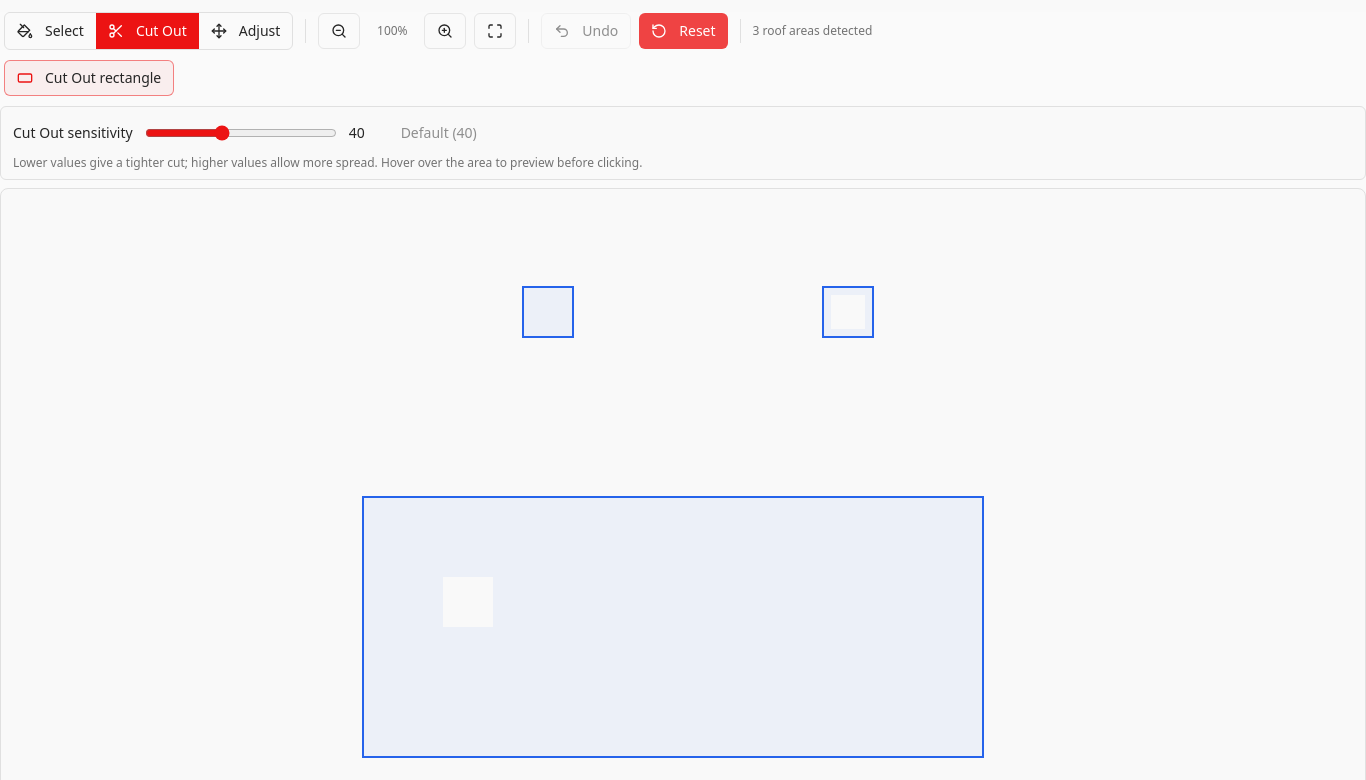
Scenario: cancels on Escape, tool change and lost capture; clicks and empty rectangles do not edit or add undo entries
The image size is (1366, 780).
Earlier steps of the test are not shown.
Later steps or results of the test are not shown.
Click the button "Cut Out rectangle" at (89, 78), box [4,60,174,96]
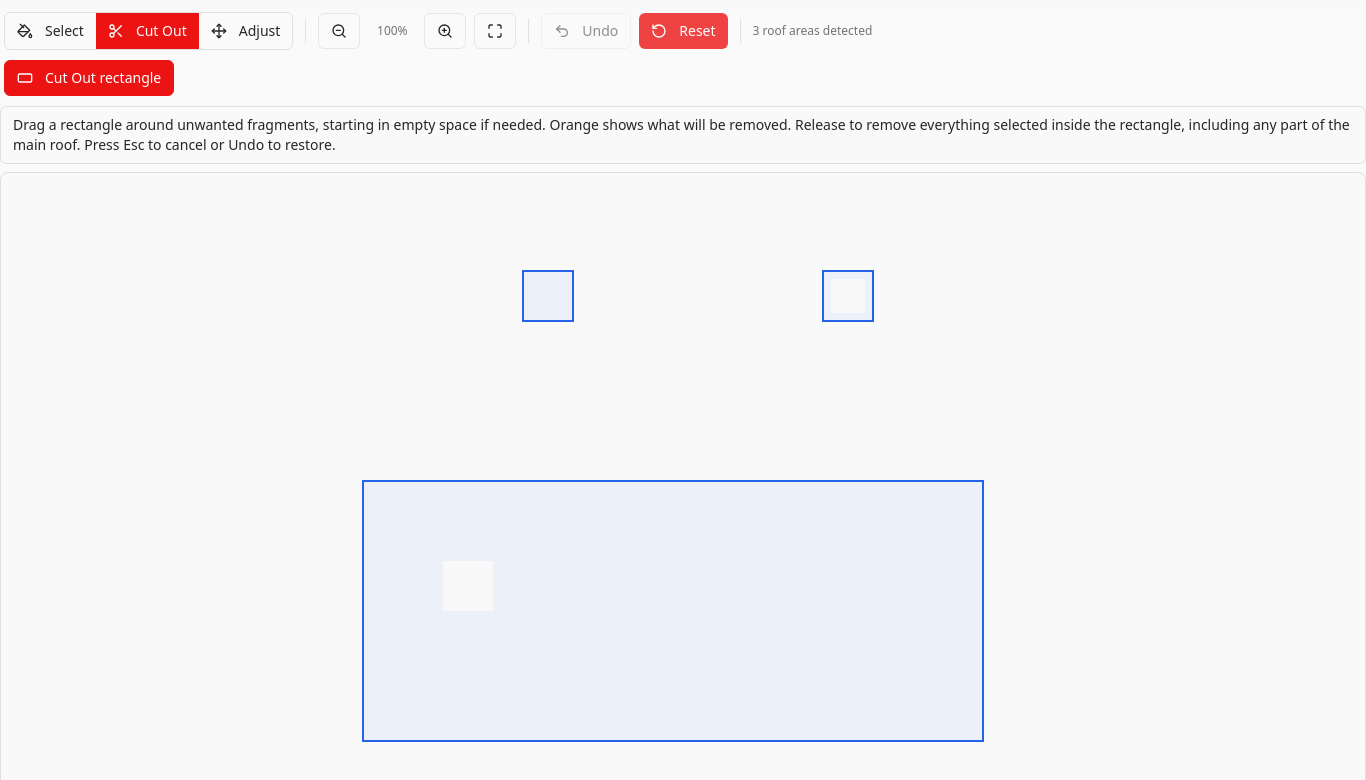
Check: the button "Cut Out" is pressed, box [96,13,199,49]
Check: the button "Cut Out rectangle" is pressed, box [4,60,174,96]
Press the mouse on the drawing with test id "paint-interaction-canvas" at (683, 481), box [283,181,1083,779]
Press Escape
Press the mouse on the drawing with test id "paint-interaction-canvas" at (683, 481), box [283,181,1083,779]
Click the button "Select" at (50, 31), box [5,13,96,49]
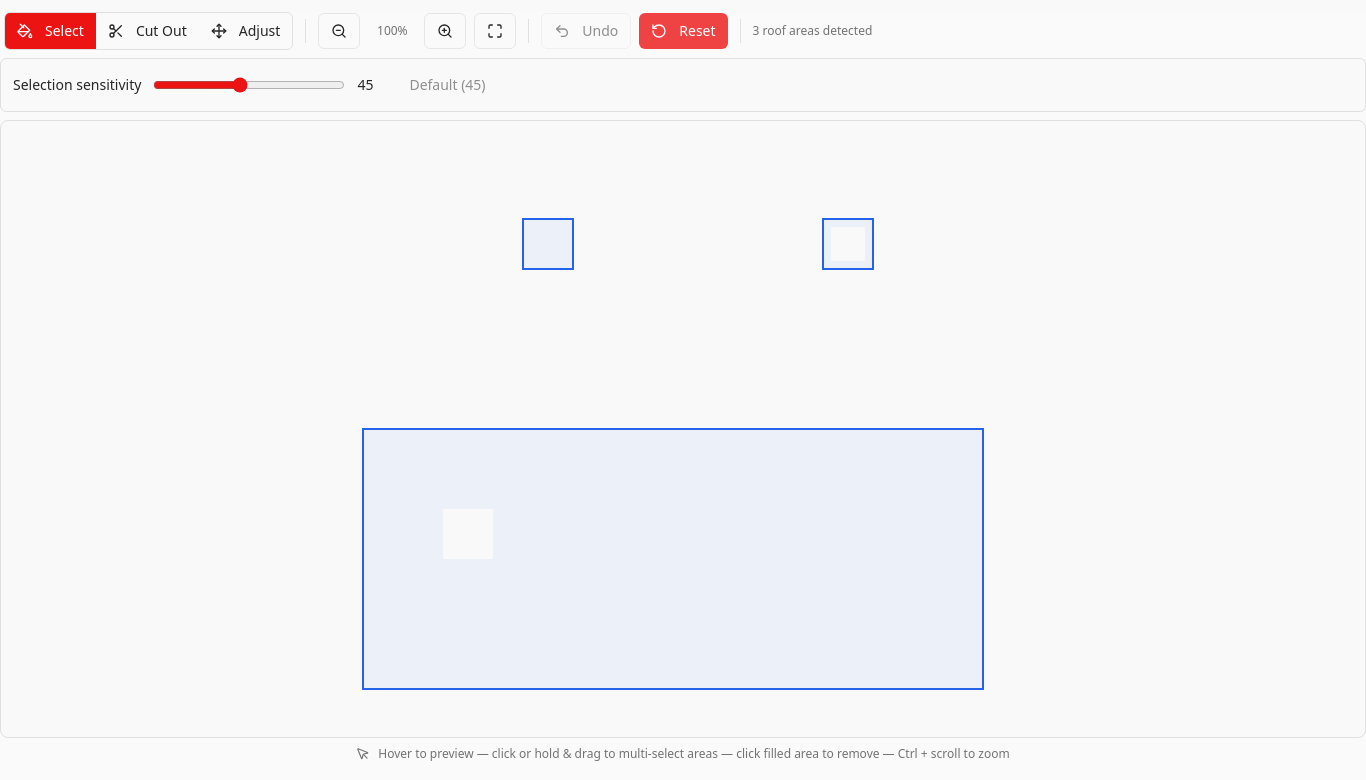
Click the button "Cut Out" at (147, 31), box [96,13,199,49]
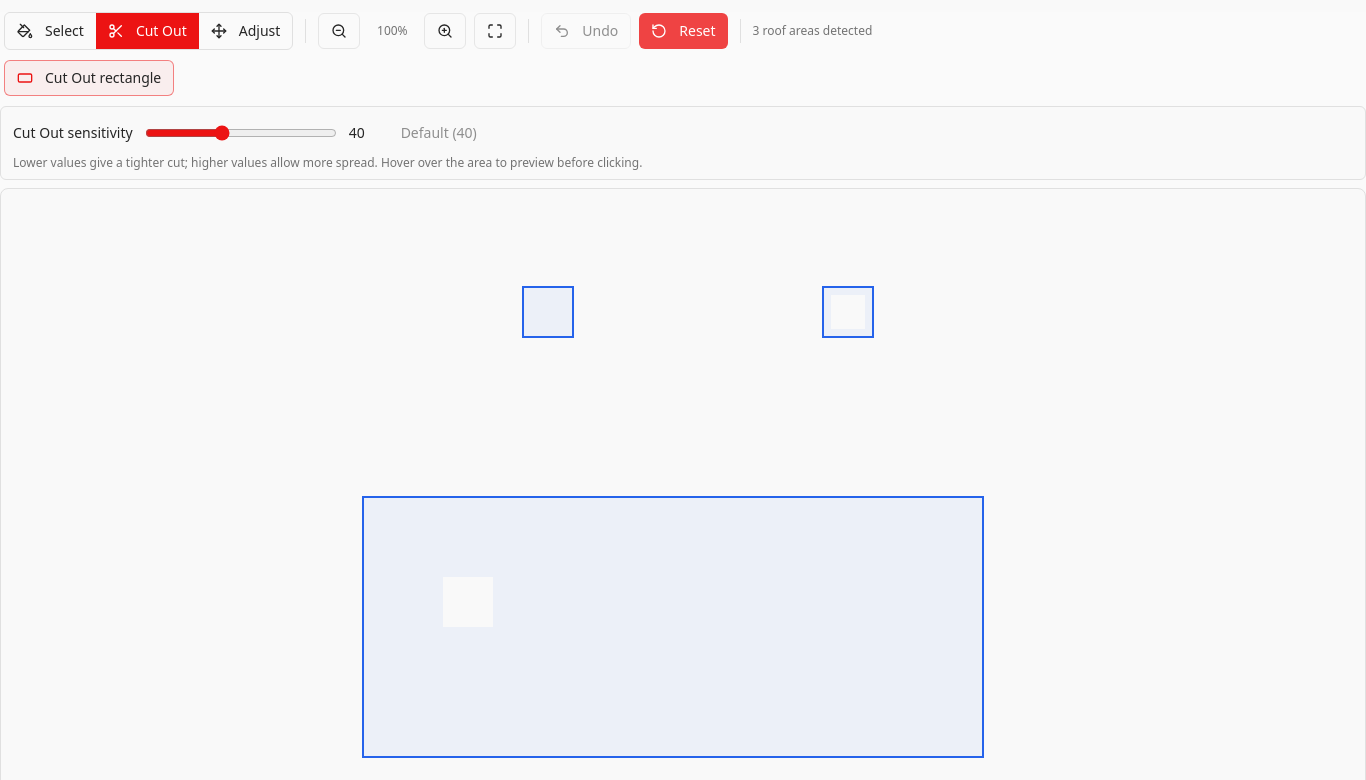
Click the button "Cut Out rectangle" at (89, 78), box [4,60,174,96]
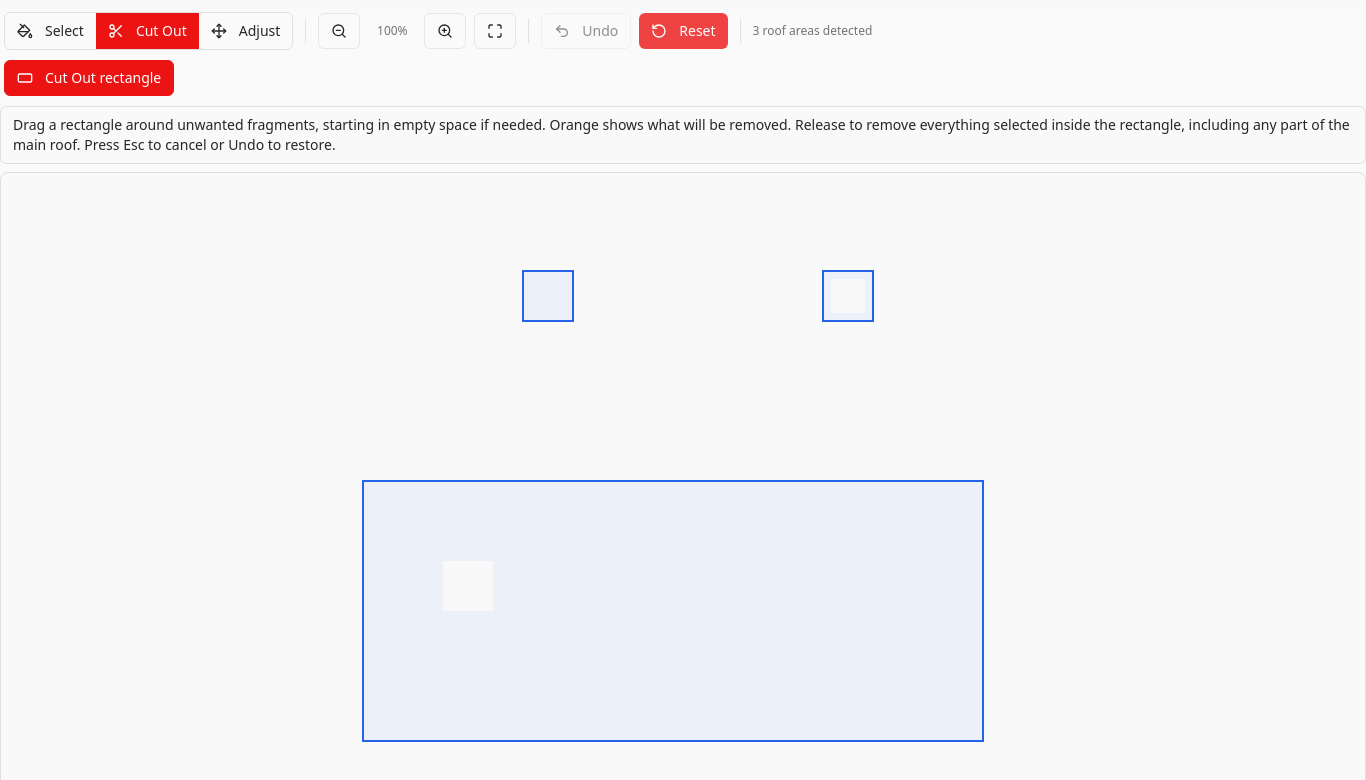
Click the button "Cut Out rectangle" at (89, 78), box [4,60,174,96]
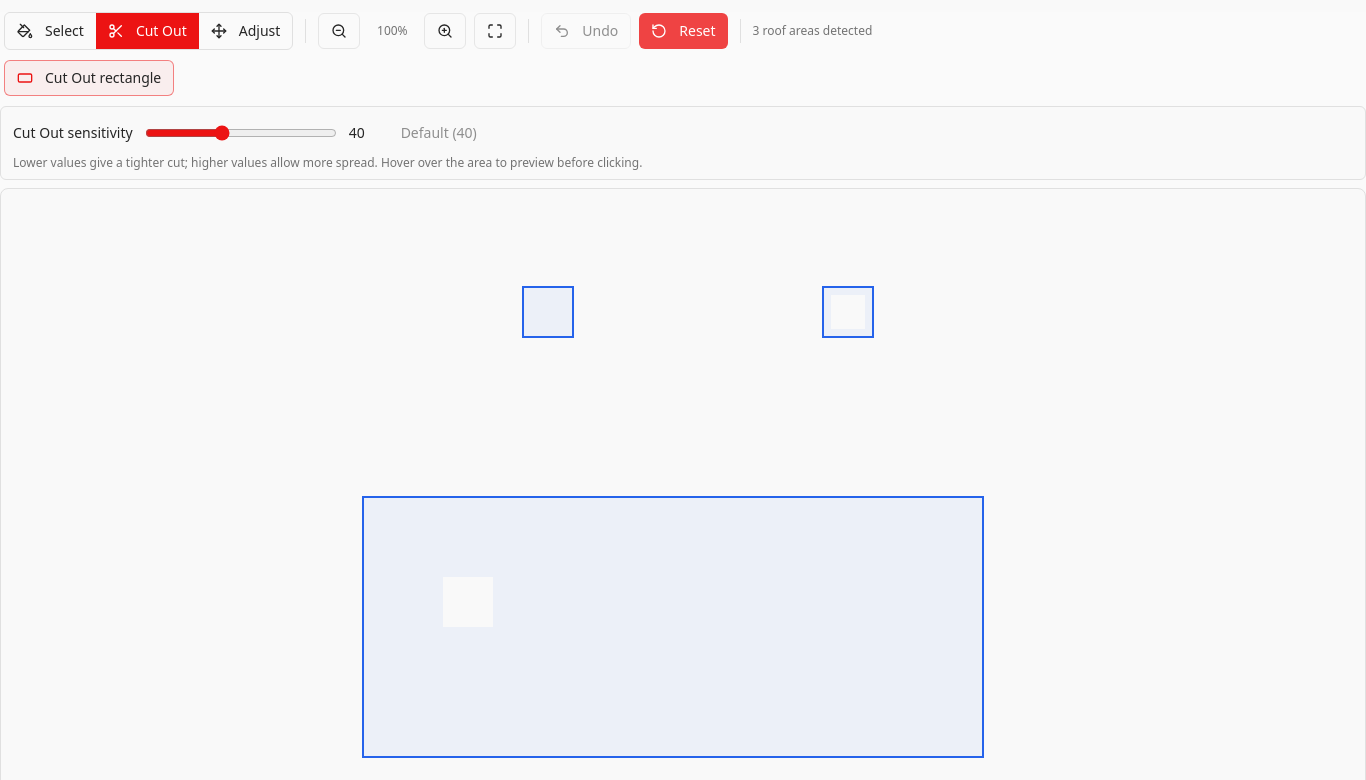
Check: the slider labelled "Cut Out sensitivity" is shown, box [145,121,337,145]
